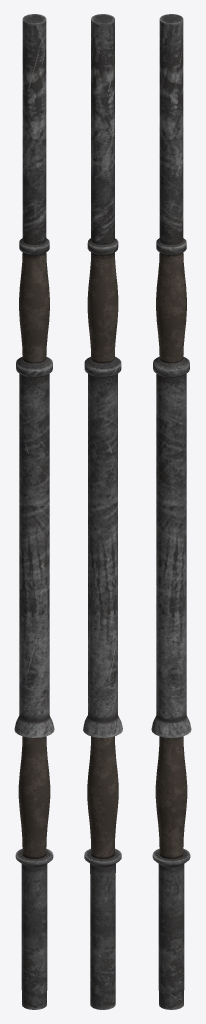
Rendered from sm_uruk_halberd_handle_a2.fbx.
The picture shows the model from 3 angles, left to right: view 1: azimuth 90°, elevation 25°; view 2: azimuth 150°, elevation 25°; view 3: azimuth 270°, elevation 25°; orthographic projection.
Parts seen in each view (by area): view 1: sm_uruk_halberd_handle_a2; view 2: sm_uruk_halberd_handle_a2; view 3: sm_uruk_halberd_handle_a2.
Part boxes in pixels (left/top/right/bottom): sm_uruk_halberd_handle_a2: left=14, top=14, right=54, bottom=1009; sm_uruk_halberd_handle_a2: left=83, top=14, right=122, bottom=1009; sm_uruk_halberd_handle_a2: left=151, top=14, right=191, bottom=1009.
Size of the model in its own units: 0.059 by 0.059 by 1.6.
Materials: 1 (1 with a texture image).
